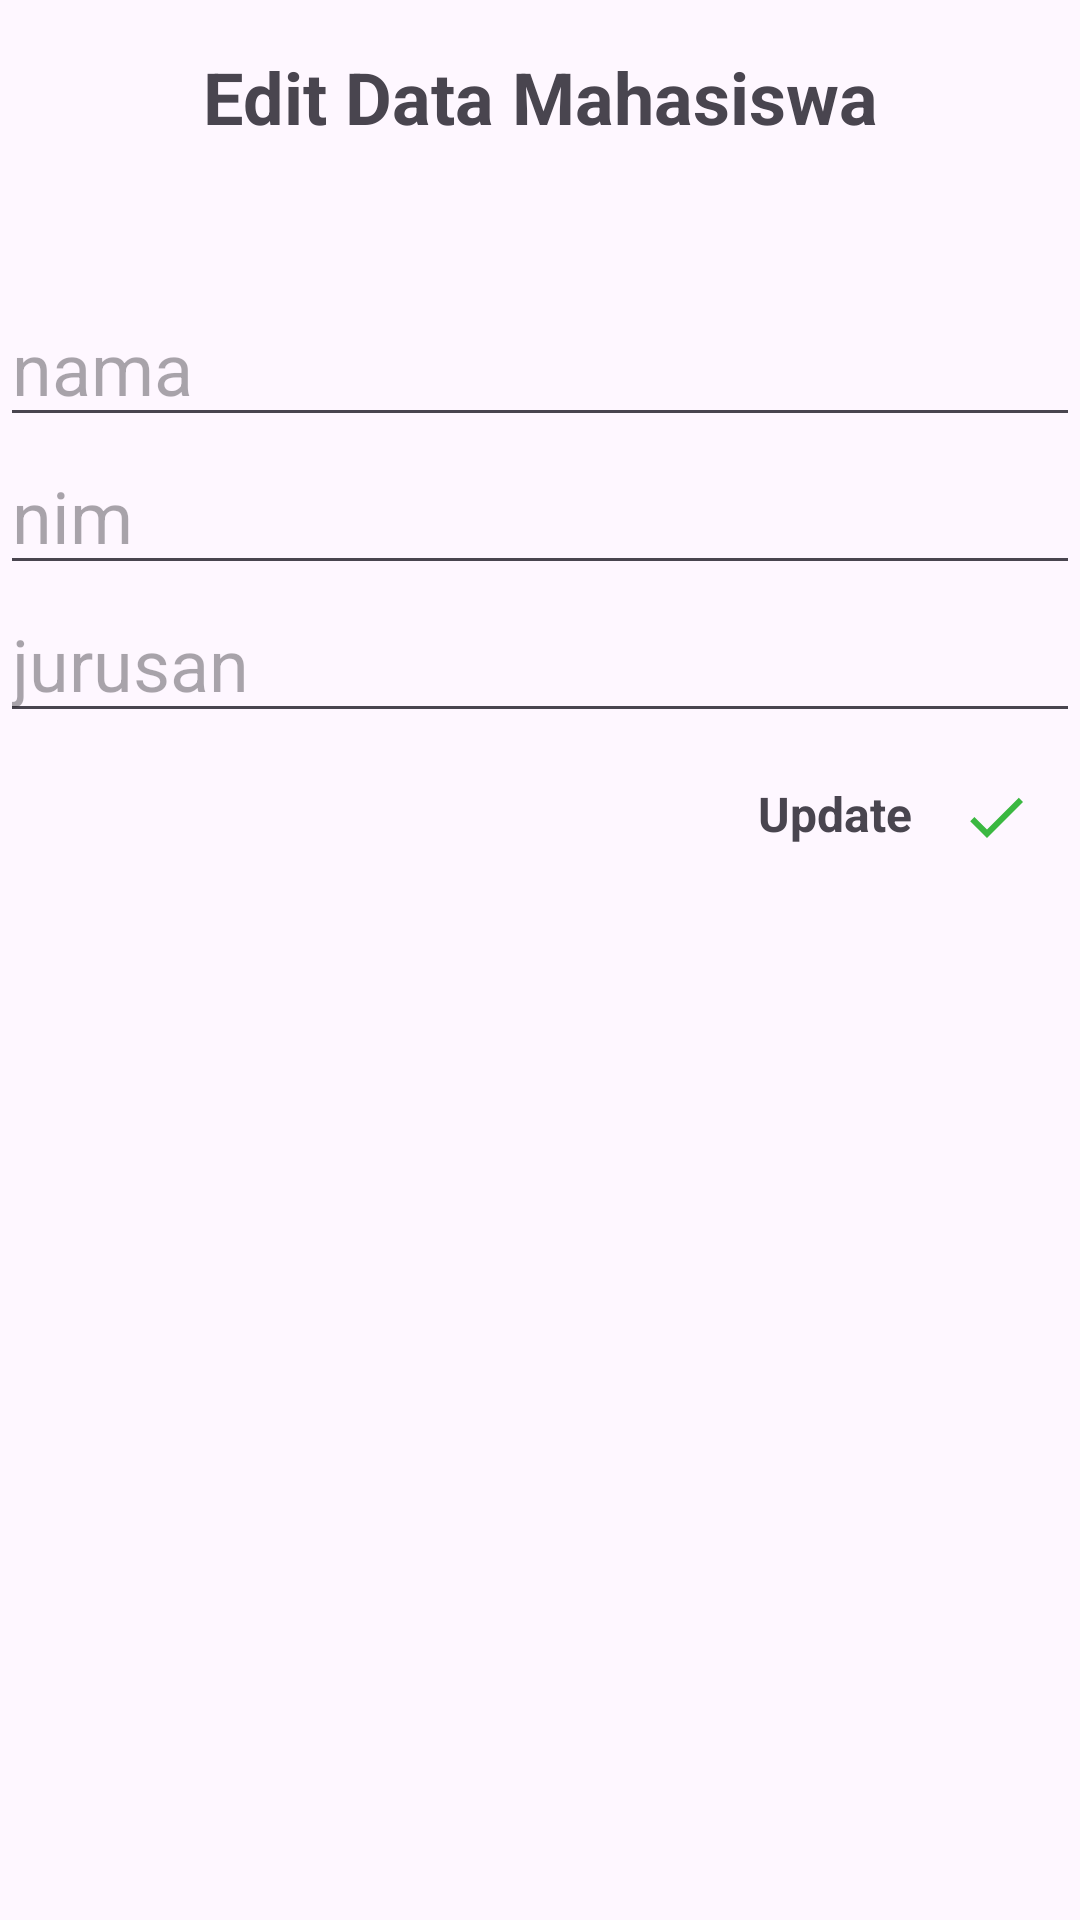

Named icons in this screenshot (1080 x 1920) and their bounding boxes, (x1, y1, x2, y2):
done: (970, 798, 1023, 838)
